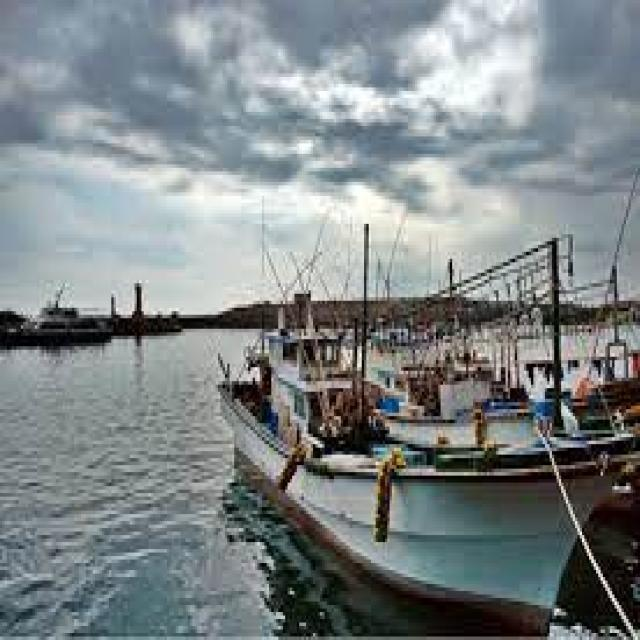Ship: (205, 214, 618, 640)
